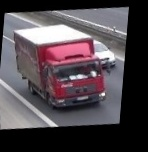truck: (7, 14, 111, 118)
